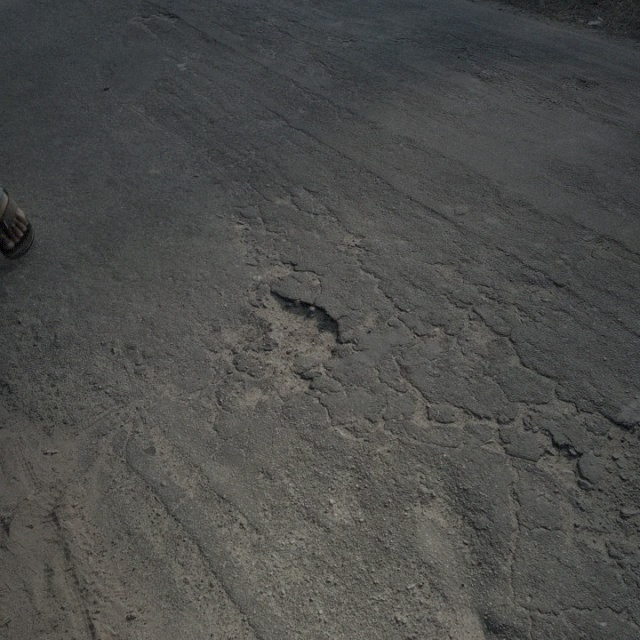pothole: (246, 286, 342, 386), (534, 441, 587, 491)
